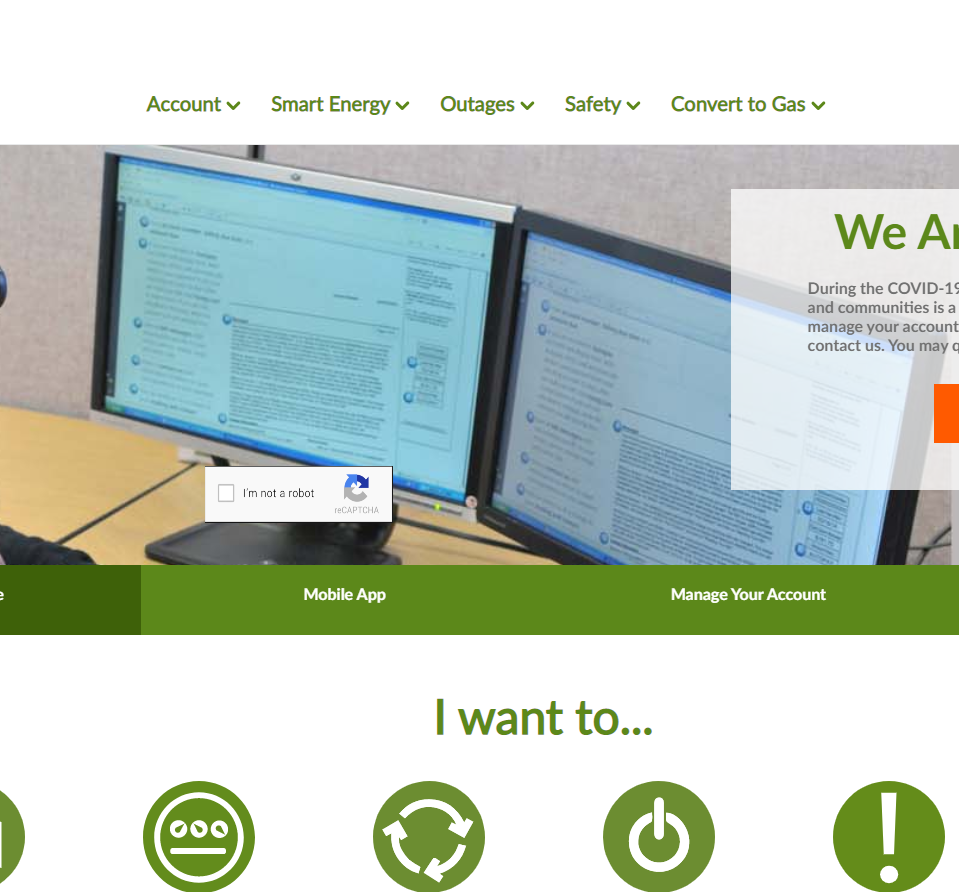captcha: (205, 468, 390, 522)
